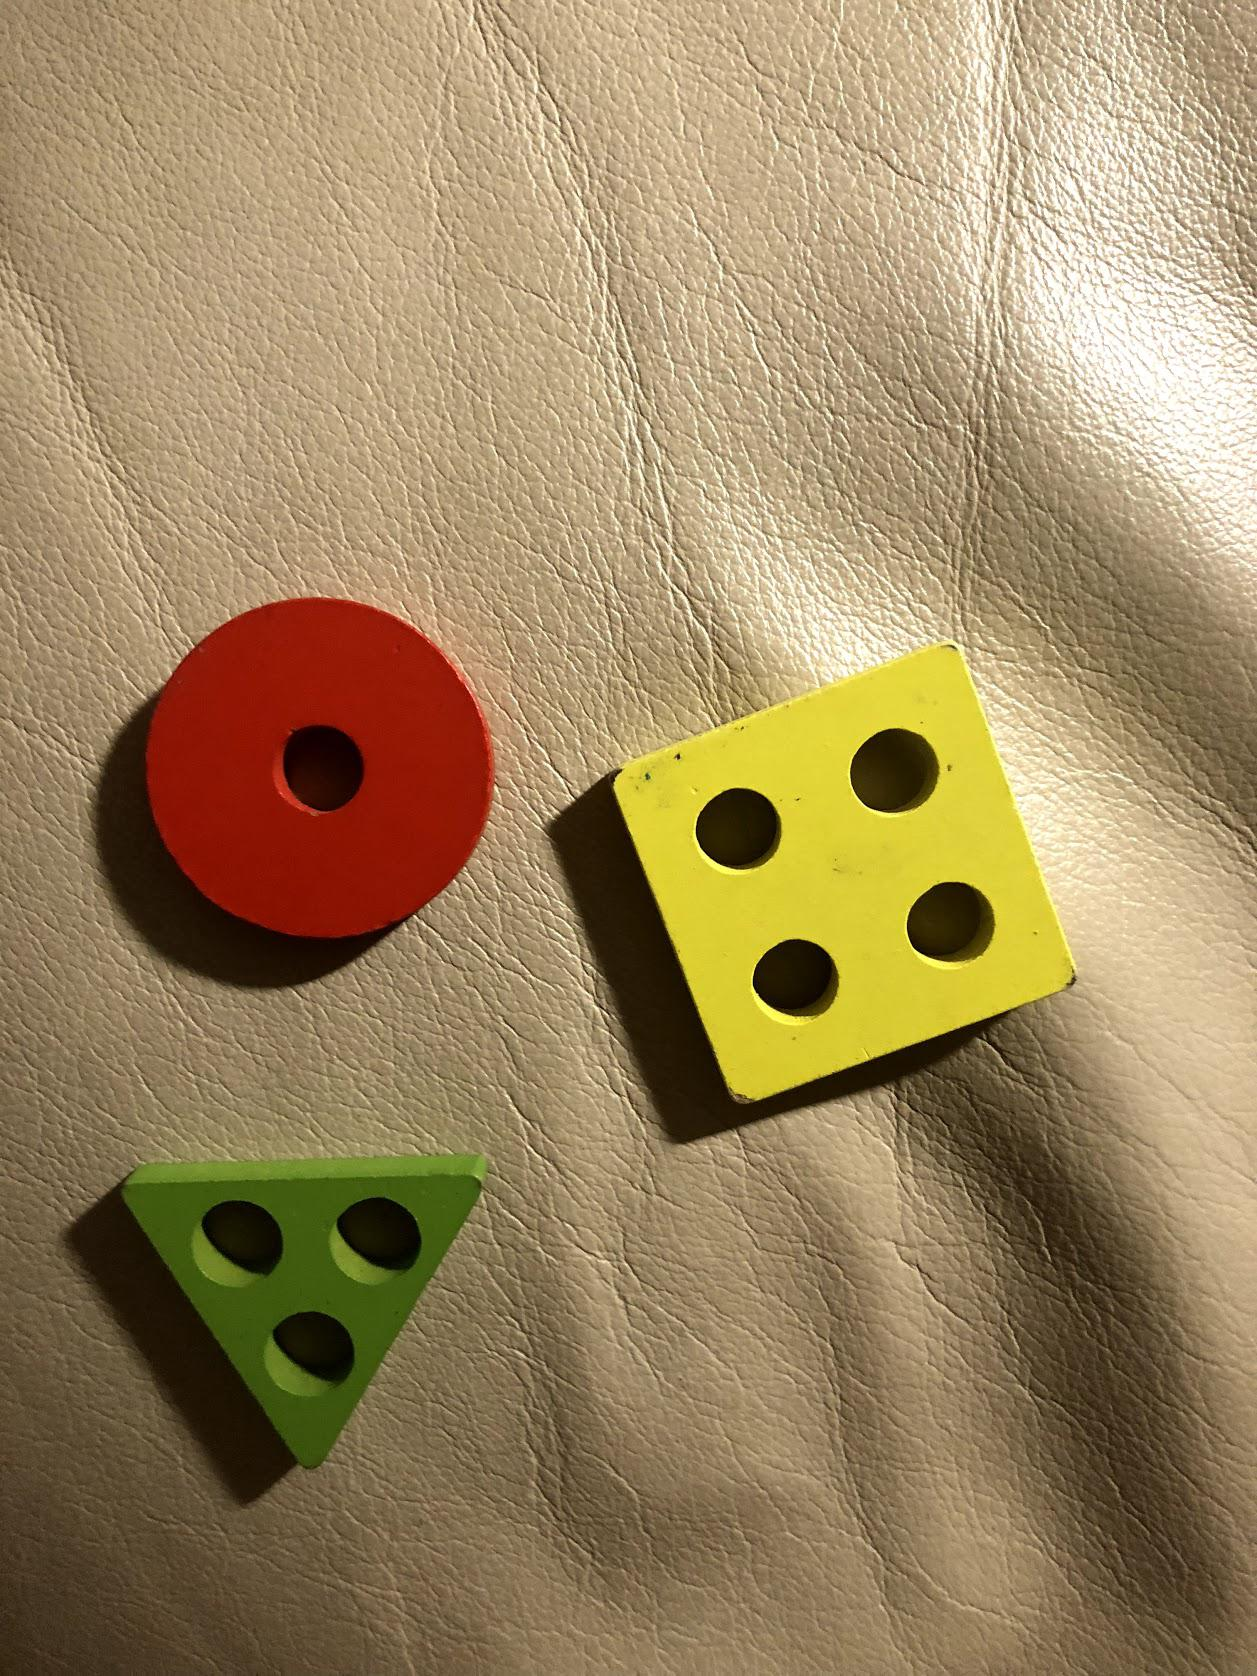Circle: (135, 593, 499, 953)
Square: (609, 641, 1081, 1114)
Triangle: (119, 1161, 485, 1477)
